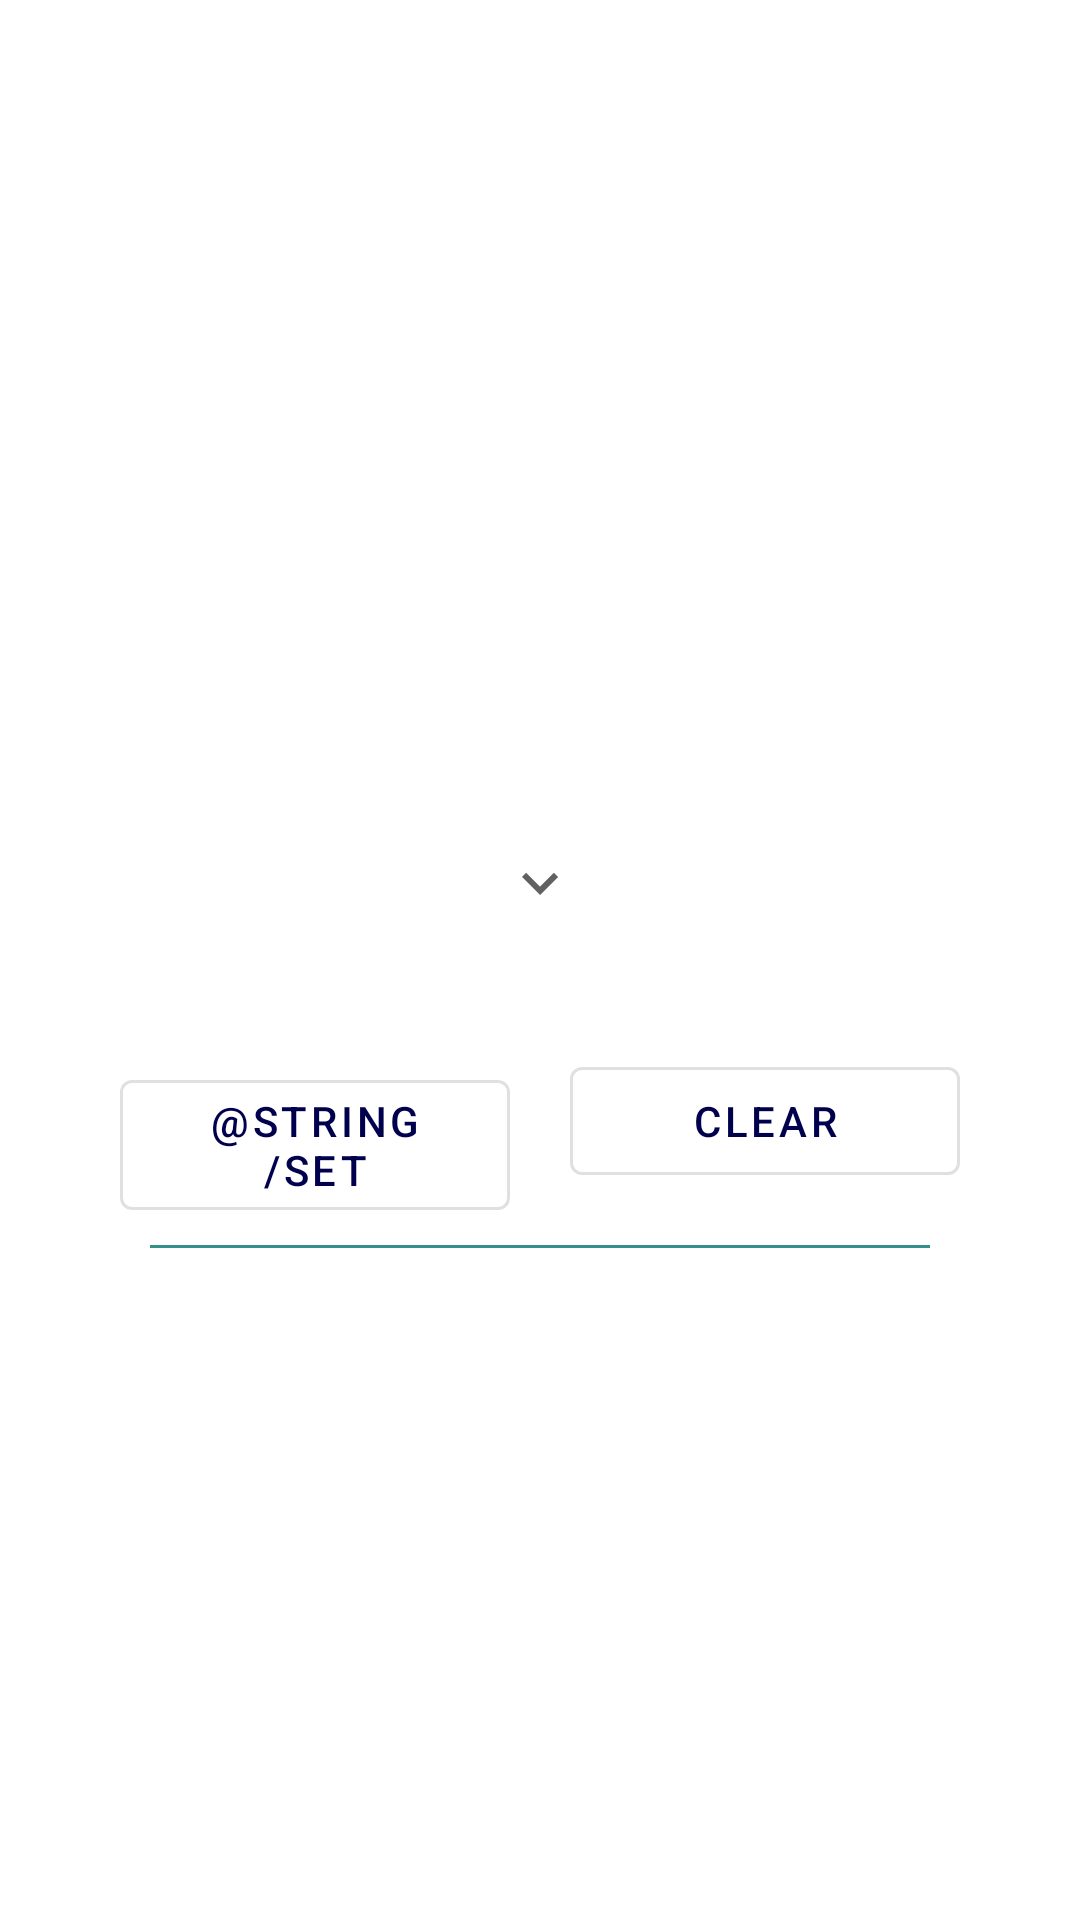

Icons on this 1080px x 1920px Android screen, each with the point to tap as (x,y):
keyboard arrow down: (540,884)
